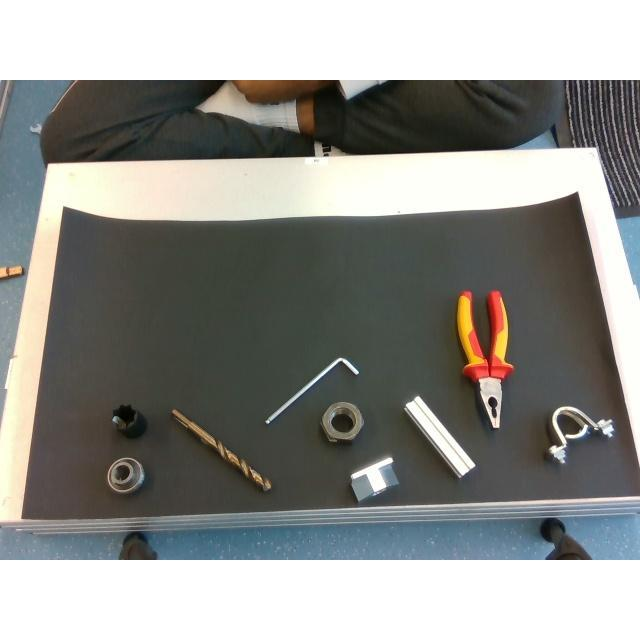Bearing2: (108, 458, 144, 494)
Drill: (170, 408, 270, 492)
F20_20_G: (404, 395, 474, 477)
Housing: (547, 406, 613, 462)
M30: (321, 402, 363, 442)
